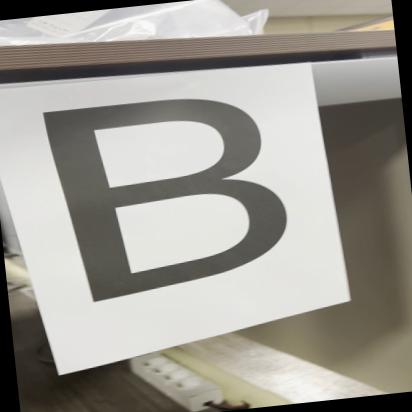seat: (22, 85, 290, 322)
